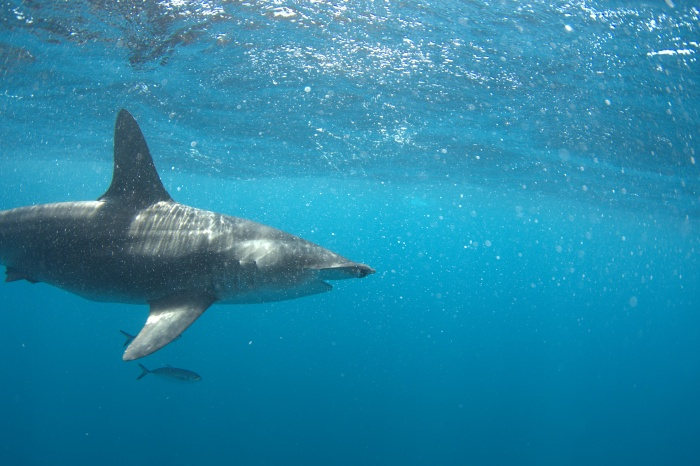Hammer: (1, 92, 376, 365)
